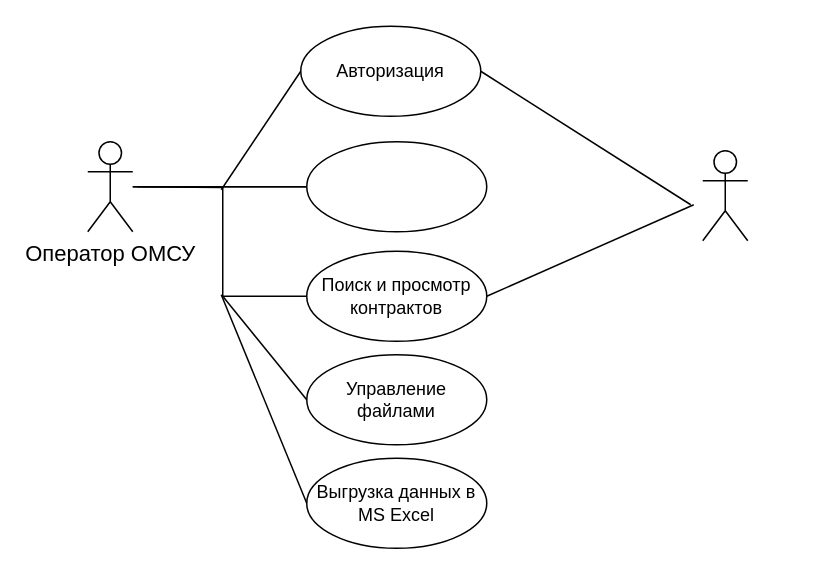
The diagram is 813 pixels wide and 575 high, and some of its shapes have lost their labels. The centre of each missing label's shape, as x and y in pixels:
"Не оператор" belongs at [724,195].
"Управление контрактами" belongs at [396,186].
